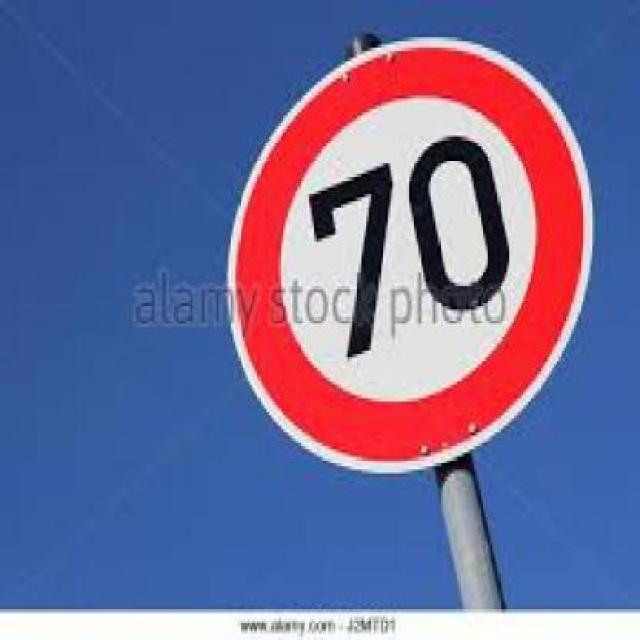forb_speed_over_70: (240, 62, 562, 429)
